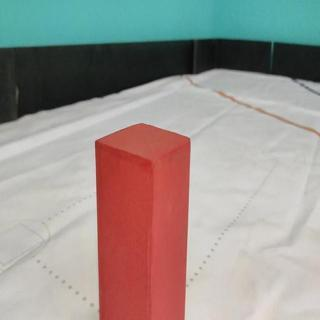redbox: (95, 122, 192, 320)
